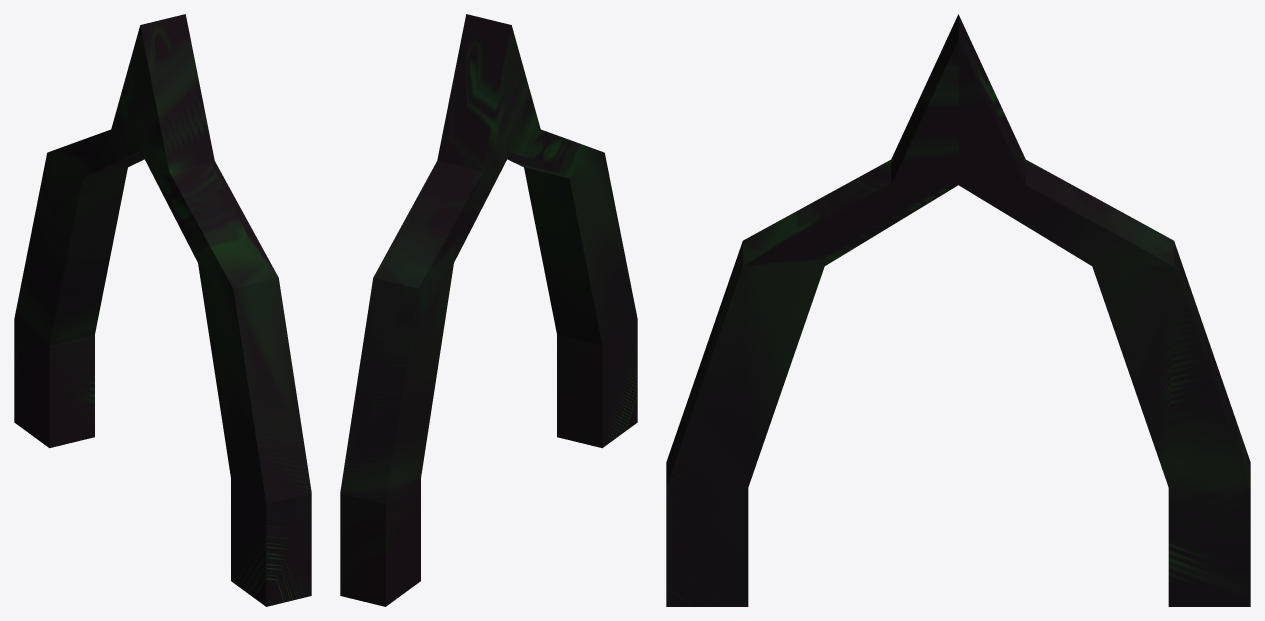
File: portal.fbx
3 views of the same model, side by side, from view 1: azimuth 30°, elevation 25°; view 2: azimuth 150°, elevation 25°; view 3: azimuth 270°, elevation 25° (orthographic). The views are drawn at different scales.
Parts seen in each view (by area): view 1: Cube.009; view 2: Cube.009; view 3: Cube.009.
Boxes of the visible parts, x1=… form: Cube.009: x1=14, y1=14, x2=311, y2=606; Cube.009: x1=340, y1=14, x2=637, y2=606; Cube.009: x1=666, y1=14, x2=1250, y2=606.
Size of the model in its own units: 92.69 by 954 by 891.
